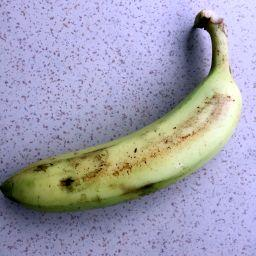Banana Ripe: (3, 10, 256, 212)
